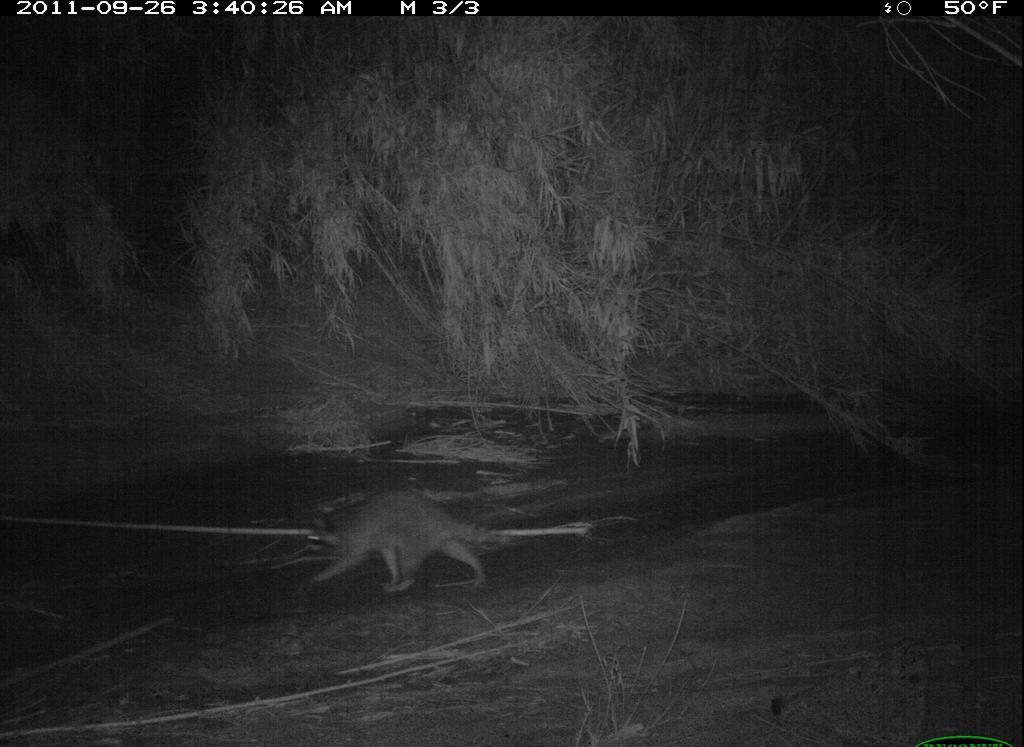raccoon: (297, 491, 524, 619)
